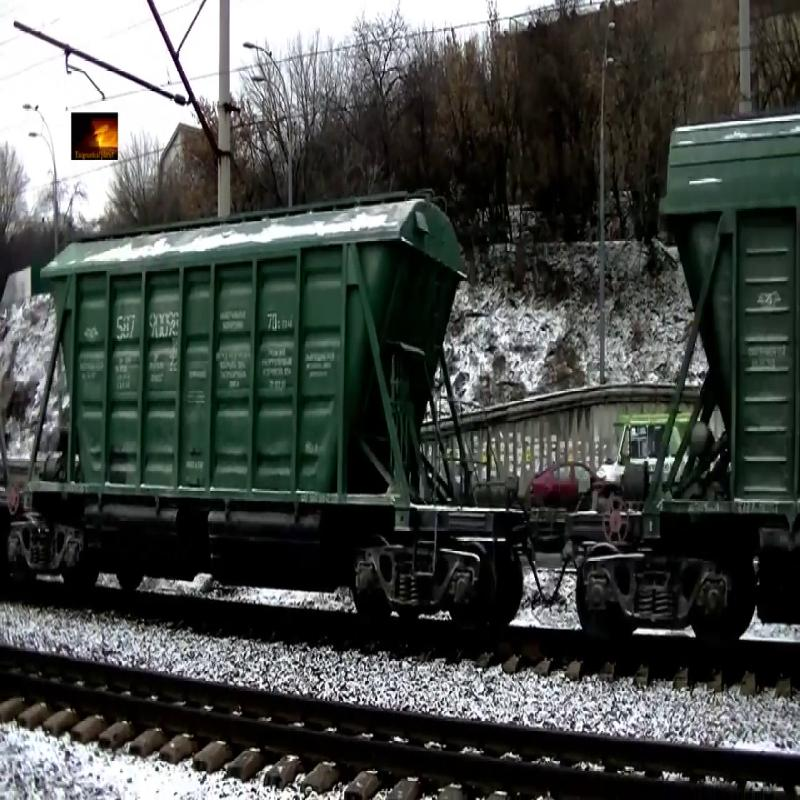train: (23, 185, 473, 579), (643, 111, 800, 563)
